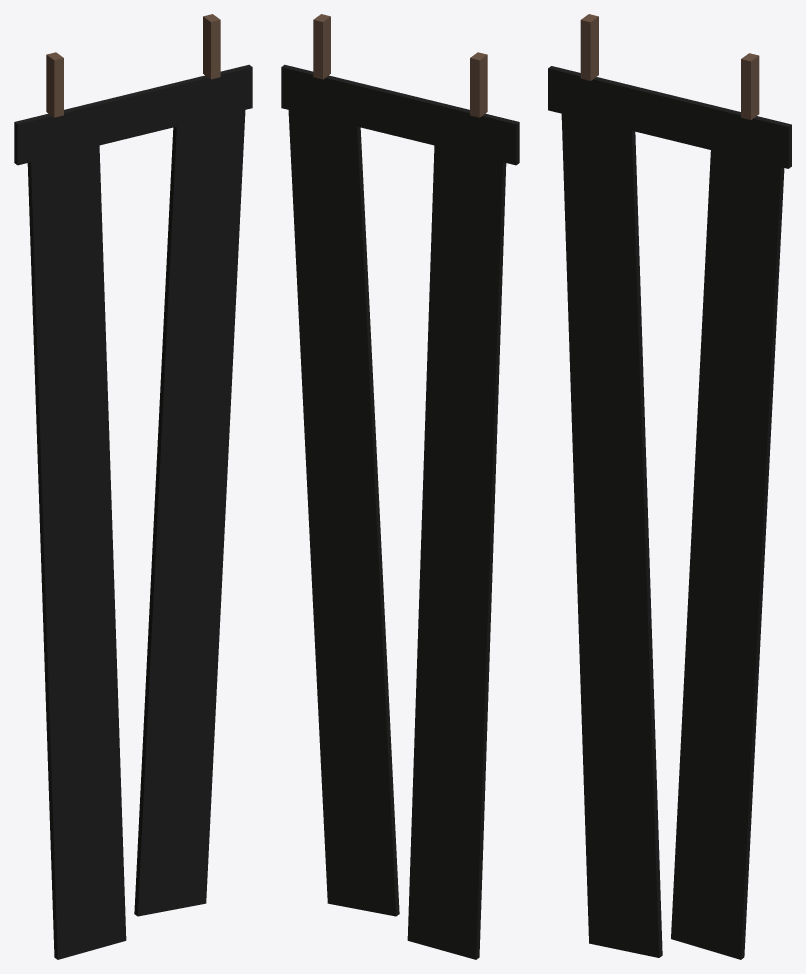
File: tights-line-vibe.glb
The picture shows the model from 3 angles, left to right: view 1: azimuth 30°, elevation 25°; view 2: azimuth 150°, elevation 25°; view 3: azimuth 330°, elevation 25°; orthographic projection. The views are drawn at different scales.
Parts seen in each view (by area): view 1: rubber, wood; view 2: rubber, wood; view 3: rubber, wood.
Part boxes in pixels (box(x1,y1,x2,y2)): rubber: box(14, 64, 252, 959); wood: box(46, 14, 220, 117); rubber: box(281, 64, 519, 959); wood: box(313, 14, 487, 117); rubber: box(548, 66, 791, 959); wood: box(580, 14, 759, 119).
Bounding box in the file's own units: 0.24 × 0.881 × 0.014.
